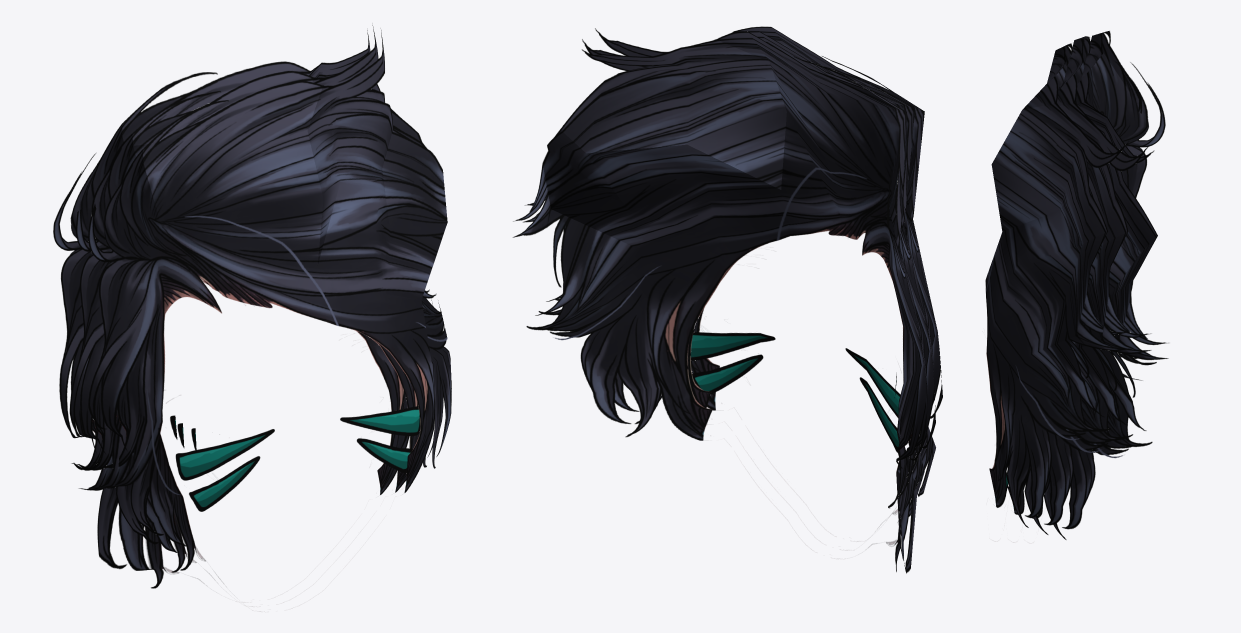
Rendered from Filter03 old.glb.
The picture shows the model from 3 angles, left to right: view 1: azimuth 30°, elevation 25°; view 2: azimuth 150°, elevation 25°; view 3: azimuth 270°, elevation 25°; orthographic projection. The views are drawn at different scales.
Visible parts, largest first — view 1: Filter03; view 2: Filter03; view 3: Filter03.
Boxes of the visible parts, bbox=[...] form: Filter03: bbox=[53, 25, 451, 588]; Filter03: bbox=[513, 26, 942, 573]; Filter03: bbox=[985, 31, 1168, 539].
Size of the model in its own units: 0.2165 by 0.2826 by 0.1245.
Materials: 1 (1 with a texture image).
